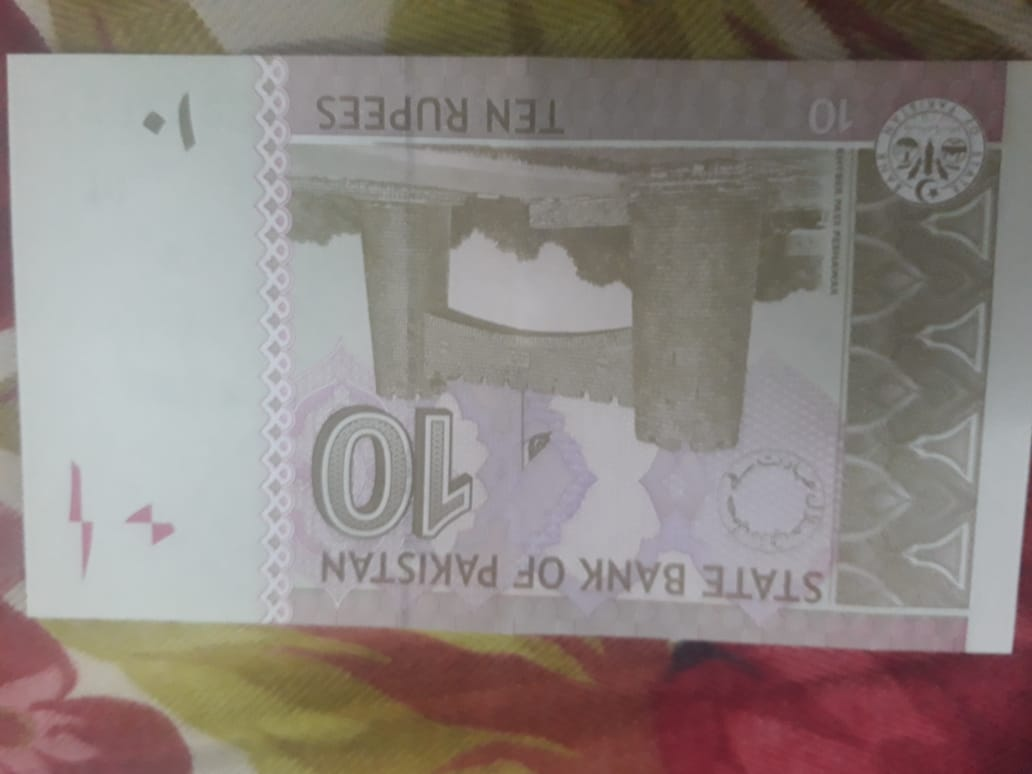10 rupee: (7, 54, 1028, 647)
